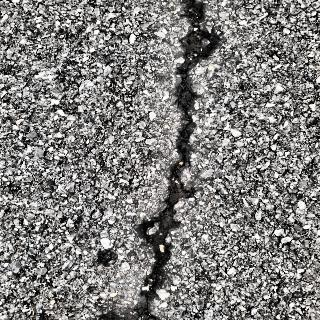crack: (124, 0, 223, 320)
